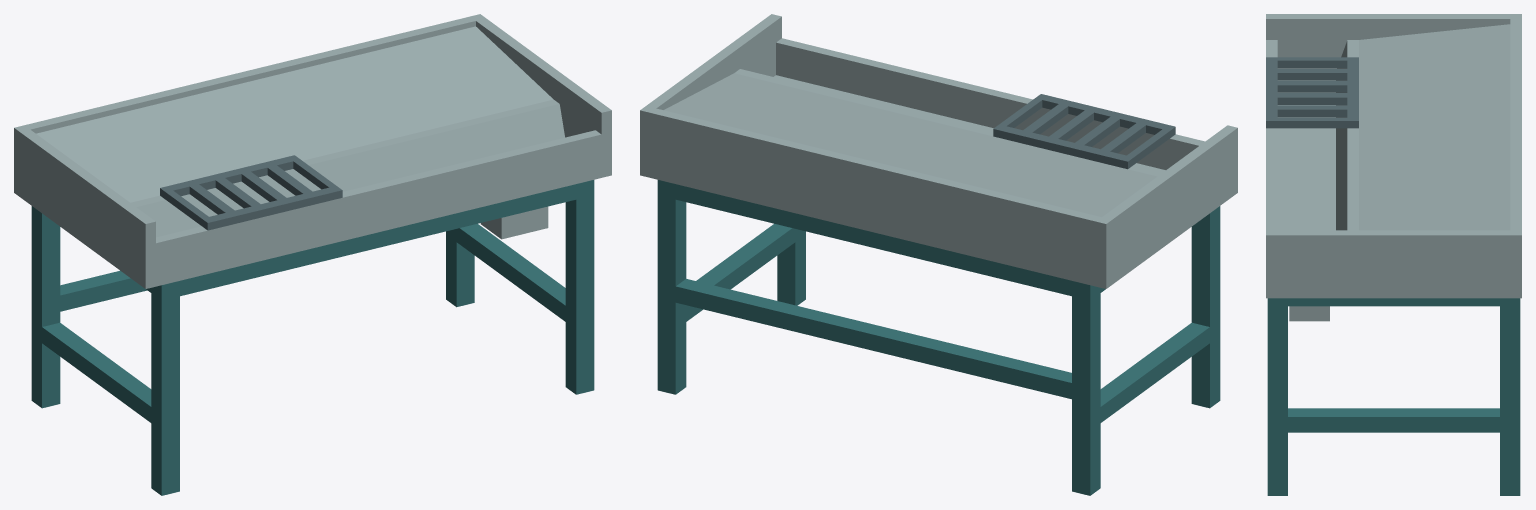
3 views of the same model, side by side, from view 1: azimuth 30°, elevation 25°; view 2: azimuth 150°, elevation 25°; view 3: azimuth 270°, elevation 25° (orthographic). The views are drawn at different scales.
Visible parts, largest first — view 1: WholeSlopedWorkfaceAndChannel, LeftWholeChannelEndWall, WholeUpperBearingFrame, IndependentFiveSlotGrate, CompleteGroundLeg_2_1, CompleteGroundLeg_1_1, CompleteGroundLeg_1_2, RightWholeChannelEndWall, LeftWholeLowerSideTie, RightWholeLowerSideTie, WholeLowerRearTie, CompleteGroundLeg_2_2 (+1 smaller); view 2: WholeSlopedWorkfaceAndChannel, WholeLowerRearTie, LeftWholeChannelEndWall, WholeUpperBearingFrame, IndependentFiveSlotGrate, CompleteGroundLeg_1_2, CompleteGroundLeg_2_2, CompleteGroundLeg_1_1, RightWholeChannelEndWall, LeftWholeLowerSideTie, RightWholeLowerSideTie, CompleteGroundLeg_2_1; view 3: WholeSlopedWorkfaceAndChannel, RightWholeChannelEndWall, IndependentFiveSlotGrate, LeftWholeChannelEndWall, RightWholeLowerSideTie, CompleteGroundLeg_2_1, CompleteGroundLeg_2_2, WholeUpperBearingFrame, WholeOpenDrainOutlet.
Part boxes in pixels (x1=…): WholeSlopedWorkfaceAndChannel: x1=24, y1=16, x2=601, y2=286; LeftWholeChannelEndWall: x1=14, y1=125, x2=155, y2=288; WholeUpperBearingFrame: x1=146, y1=180, x2=594, y2=300; IndependentFiveSlotGrate: x1=160, y1=155, x2=342, y2=230; CompleteGroundLeg_2_1: x1=565, y1=195, x2=594, y2=394; CompleteGroundLeg_1_1: x1=151, y1=293, x2=179, y2=495; CompleteGroundLeg_1_2: x1=31, y1=206, x2=60, y2=408; RightWholeChannelEndWall: x1=470, y1=14, x2=611, y2=177; LeftWholeLowerSideTie: x1=42, y1=322, x2=151, y2=422; RightWholeLowerSideTie: x1=456, y1=223, x2=565, y2=321; WholeLowerRearTie: x1=60, y1=270, x2=147, y2=311; CompleteGroundLeg_2_2: x1=446, y1=229, x2=474, y2=307; WholeSlopedWorkfaceAndChannel: x1=650, y1=38, x2=1204, y2=286; WholeLowerRearTie: x1=675, y1=278, x2=1071, y2=399; LeftWholeChannelEndWall: x1=1096, y1=125, x2=1237, y2=288; WholeUpperBearingFrame: x1=657, y1=180, x2=1105, y2=300; IndependentFiveSlotGrate: x1=993, y1=94, x2=1175, y2=169; CompleteGroundLeg_1_2: x1=1072, y1=293, x2=1100, y2=495; CompleteGroundLeg_2_2: x1=657, y1=195, x2=686, y2=394; CompleteGroundLeg_1_1: x1=1191, y1=206, x2=1220, y2=408; RightWholeChannelEndWall: x1=640, y1=14, x2=781, y2=177; LeftWholeLowerSideTie: x1=1100, y1=322, x2=1209, y2=422; RightWholeLowerSideTie: x1=686, y1=223, x2=795, y2=321; CompleteGroundLeg_2_1: x1=777, y1=229, x2=805, y2=305; WholeSlopedWorkfaceAndChannel: x1=1266, y1=19, x2=1521, y2=230; RightWholeChannelEndWall: x1=1266, y1=230, x2=1521, y2=298; IndependentFiveSlotGrate: x1=1266, y1=57, x2=1358, y2=128; LeftWholeChannelEndWall: x1=1266, y1=14, x2=1521, y2=68; RightWholeLowerSideTie: x1=1288, y1=408, x2=1499, y2=432; CompleteGroundLeg_2_1: x1=1267, y1=306, x2=1287, y2=495; CompleteGroundLeg_2_2: x1=1500, y1=306, x2=1520, y2=495; WholeUpperBearingFrame: x1=1267, y1=298, x2=1520, y2=306; WholeOpenDrainOutlet: x1=1289, y1=306, x2=1329, y2=321.
Size of the model in its own units: 1.8 by 1.02 by 0.88.
